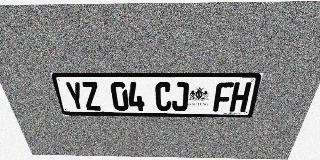0: (110, 82, 129, 111)
4: (127, 82, 145, 111)
C: (155, 82, 172, 111)
F: (213, 82, 234, 112)
H: (229, 82, 252, 112)
J: (172, 82, 189, 111)
Y: (64, 82, 86, 110)
Z: (81, 82, 102, 110)
